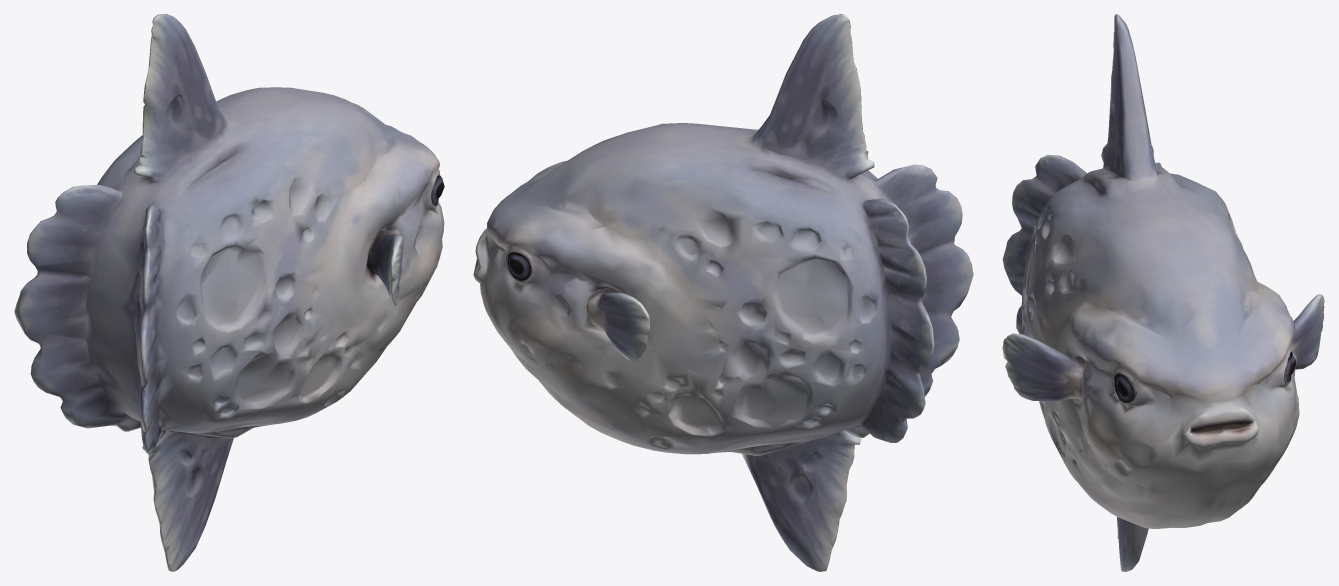
Rendered from beast-luna.glb.
3 views of the same model, side by side, from view 1: azimuth 30°, elevation 25°; view 2: azimuth 150°, elevation 25°; view 3: azimuth 270°, elevation 25° (orthographic). The views are drawn at different scales.
Visible parts, largest first — view 1: tripo_node_224de192-8d2f-472c-b1a2-0bdc8c40f1a5; view 2: tripo_node_224de192-8d2f-472c-b1a2-0bdc8c40f1a5; view 3: tripo_node_224de192-8d2f-472c-b1a2-0bdc8c40f1a5.
Part boxes in pixels (<box>): tripo_node_224de192-8d2f-472c-b1a2-0bdc8c40f1a5: <box>14,14,444,571</box>; tripo_node_224de192-8d2f-472c-b1a2-0bdc8c40f1a5: <box>473,14,973,571</box>; tripo_node_224de192-8d2f-472c-b1a2-0bdc8c40f1a5: <box>1002,14,1324,571</box>.
Size of the model in its own units: 0.8108 by 1 by 0.5338.
1 material, 1 textured.
